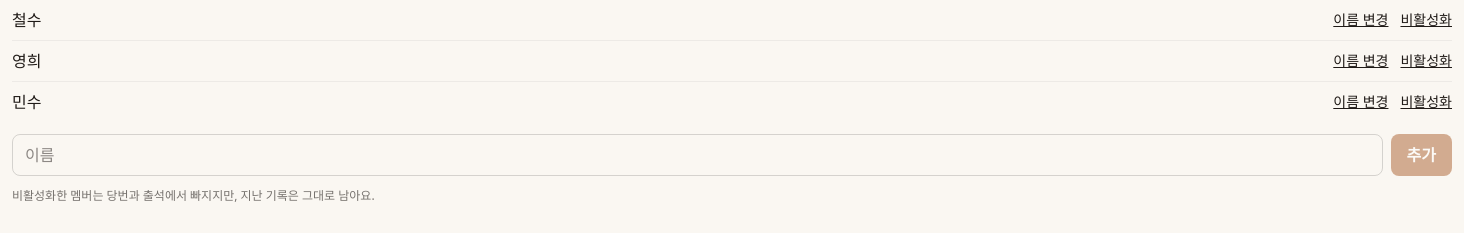
it: MemberManager › cancels a rename
The width and height of the screenshot is (1464, 233).
Click the button "이름 변경" in the row of "영희".
click(1361, 61)  # box left=1333, top=51, right=1388, bottom=71
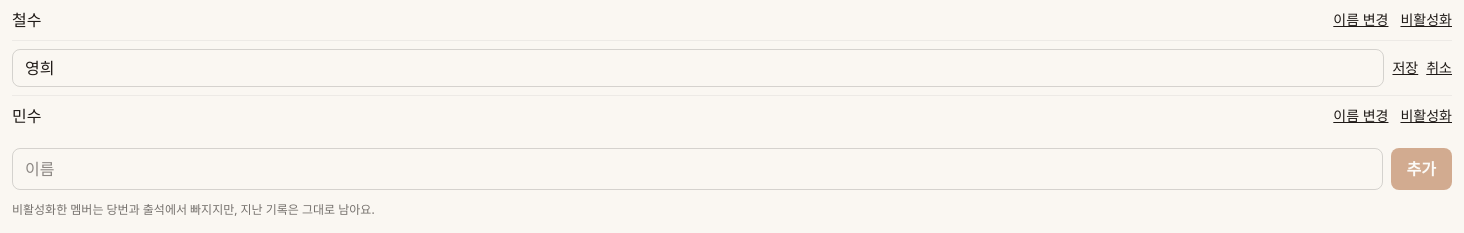
Click the button "취소".
click(1439, 68)  # box left=1426, top=49, right=1452, bottom=87
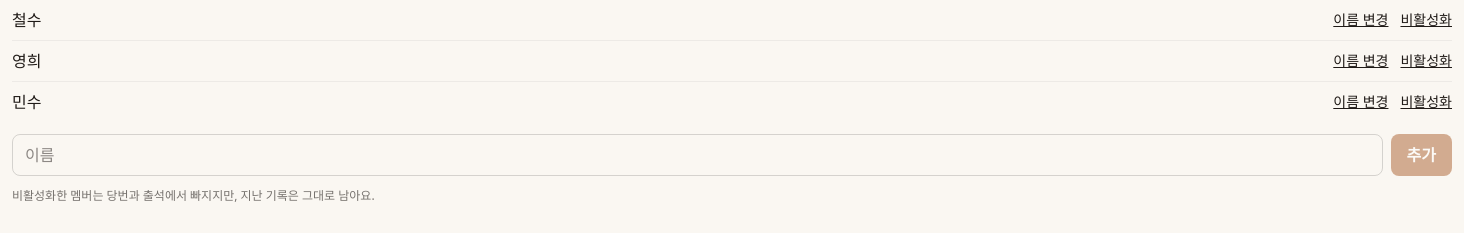
Expected: the list item "영희" is shown, left=12, top=41, right=1452, bottom=82
